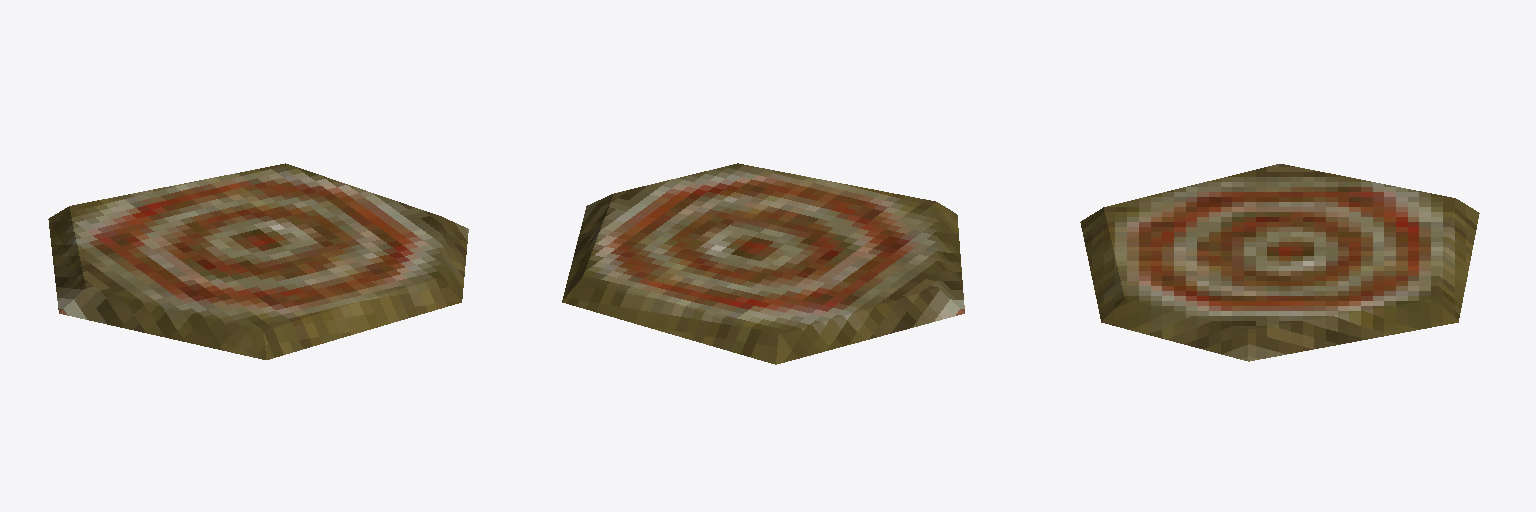
3 renders of one model, left to right at view 1: azimuth 30°, elevation 25°; view 2: azimuth 150°, elevation 25°; view 3: azimuth 270°, elevation 25°, orthographic.
Parts seen in each view (by area): view 1: target1; view 2: target1; view 3: target1.
Boxes of the visible parts, <box> form: target1: <box>48,163,468,359</box>; target1: <box>562,163,964,364</box>; target1: <box>1080,164,1479,361</box>.
Size of the model in its own units: 0.4336 by 0.02 by 0.3804.
1 materials, 1 textured.